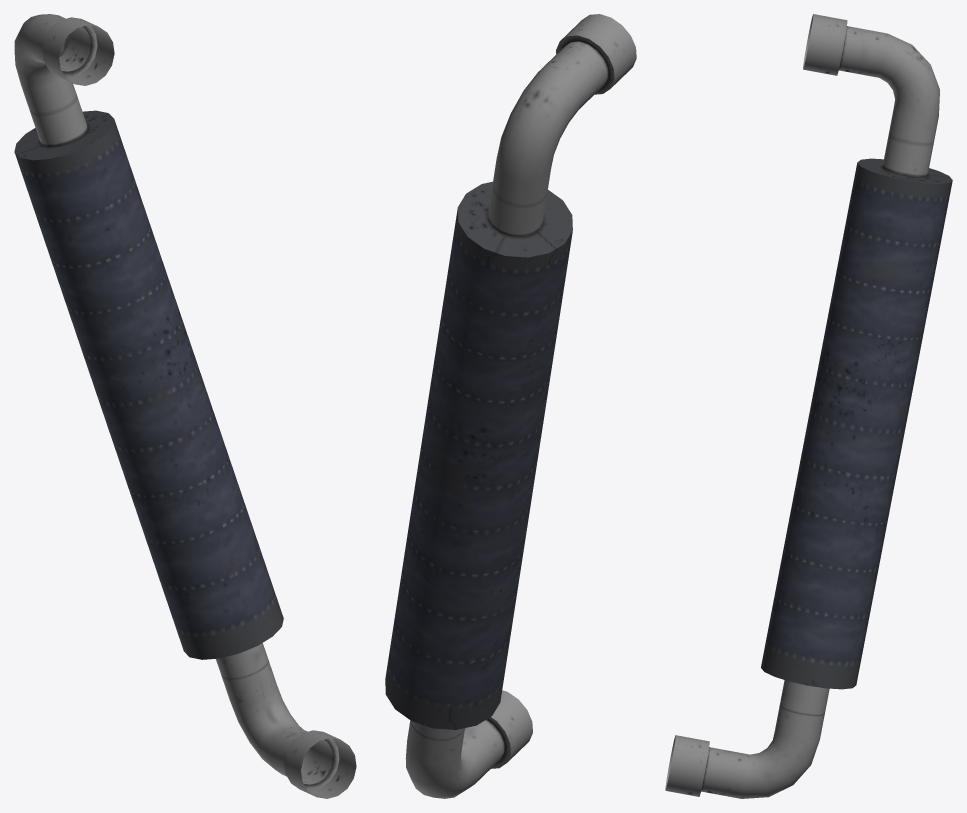
The model's file is Handrails.glb.
3 renders of one model, left to right at view 1: azimuth 30°, elevation 25°; view 2: azimuth 150°, elevation 25°; view 3: azimuth 270°, elevation 25°, orthographic. The views are drawn at different scales.
Visible parts, largest first — view 1: Handrails_low; view 2: Handrails_low; view 3: Handrails_low.
Part boxes in pixels (left/top/right/bottom): Handrails_low: left=14, top=14, right=356, bottom=798; Handrails_low: left=385, top=14, right=636, bottom=798; Handrails_low: left=665, top=14, right=952, bottom=798.
Bounding box in the file's own units: 0.0704 × 0.2306 × 0.0854.
Materials: 1 (1 with a texture image).
